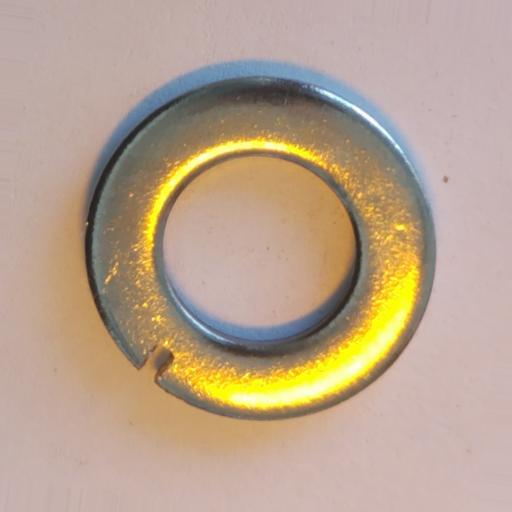burr: (134, 342, 175, 379)
